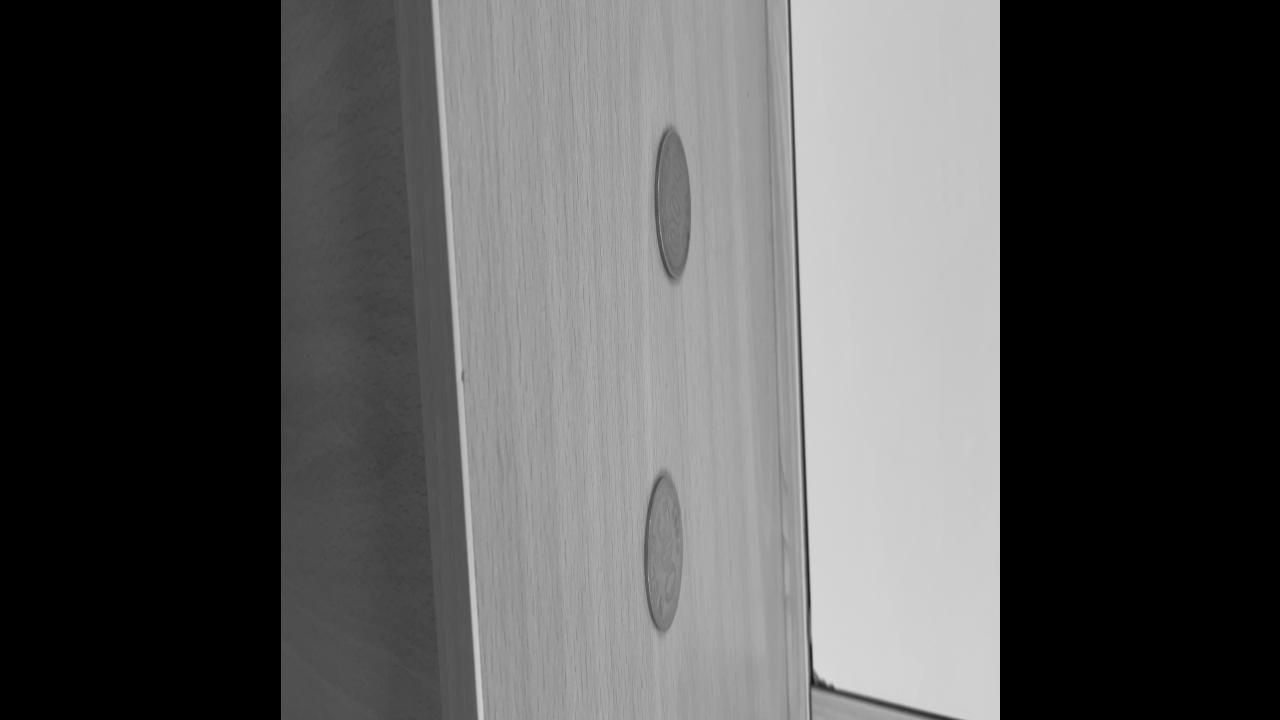coin: (641, 470, 685, 638), (652, 126, 692, 282)
